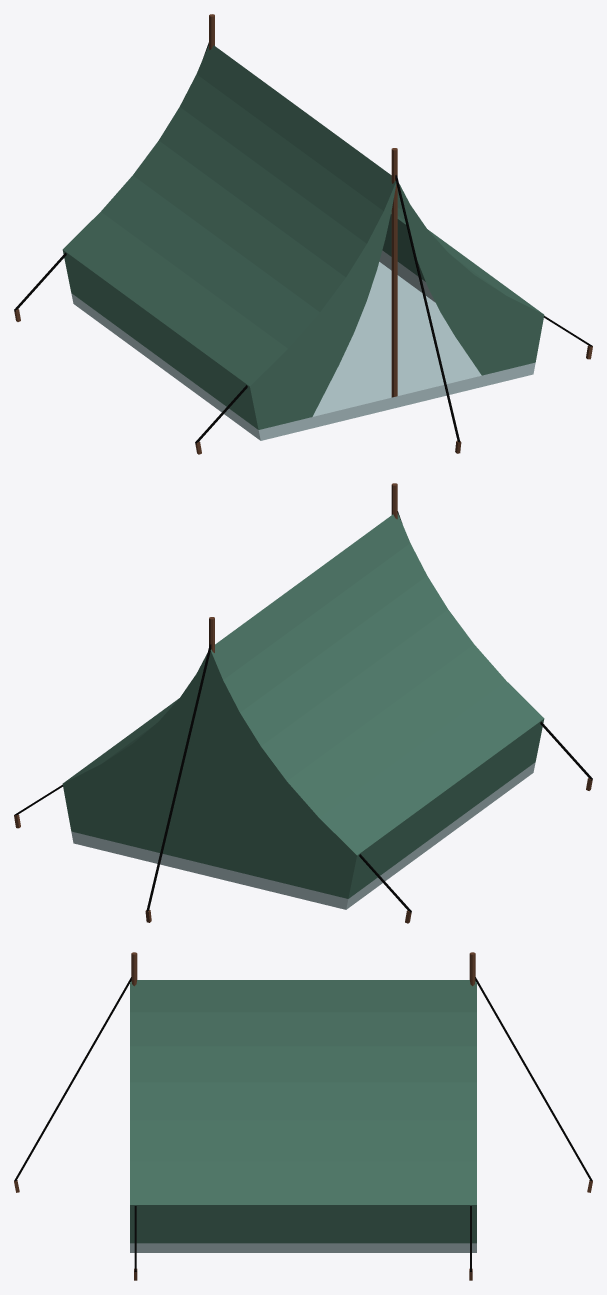
Rendered from Tent.fbx.
The picture shows the model from 3 angles, top to bottom: view 1: azimuth 30°, elevation 25°; view 2: azimuth 150°, elevation 25°; view 3: azimuth 270°, elevation 25°; orthographic projection. The views are drawn at different scales.
Visible parts, largest first — view 1: Tent; view 2: Tent; view 3: Tent.
Boxes of the visible parts, x1=… form: Tent: x1=14, y1=14, x2=592, y2=454; Tent: x1=14, y1=483, x2=592, y2=923; Tent: x1=14, y1=952, x2=592, y2=1280.
Bounding box in the file's own units: 0.7279 × 0.4515 × 0.9927.
